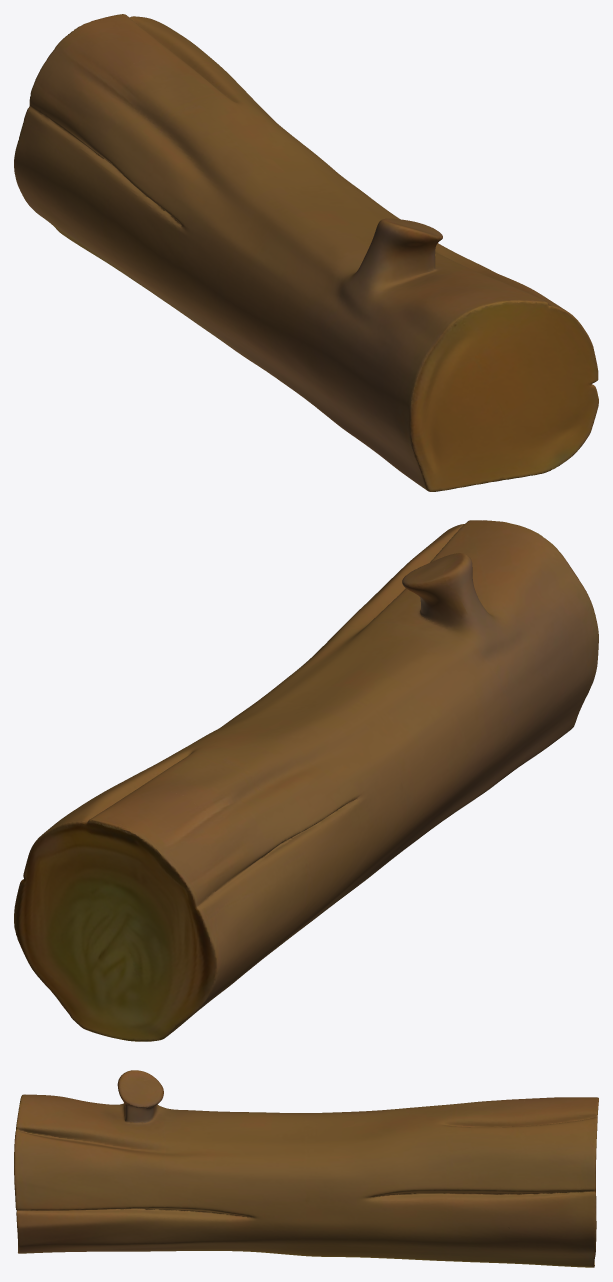
The model's file is tripo_convert_685592fe-4a34-482d-9e47-7f9aaf609cbf.fbx.
3 views of the same model, one above another, from view 1: azimuth 30°, elevation 25°; view 2: azimuth 150°, elevation 25°; view 3: azimuth 270°, elevation 25° (orthographic). The views are drawn at different scales.
Visible parts, largest first — view 1: tripo_node_685592fe; view 2: tripo_node_685592fe; view 3: tripo_node_685592fe.
Part boxes in pixels (bbox=[...]): tripo_node_685592fe: bbox=[14, 14, 598, 491]; tripo_node_685592fe: bbox=[14, 520, 598, 1041]; tripo_node_685592fe: bbox=[14, 1070, 598, 1267].
Bounding box in the file's own units: 0.286 × 0.3367 × 1.
1 material, 1 textured.
